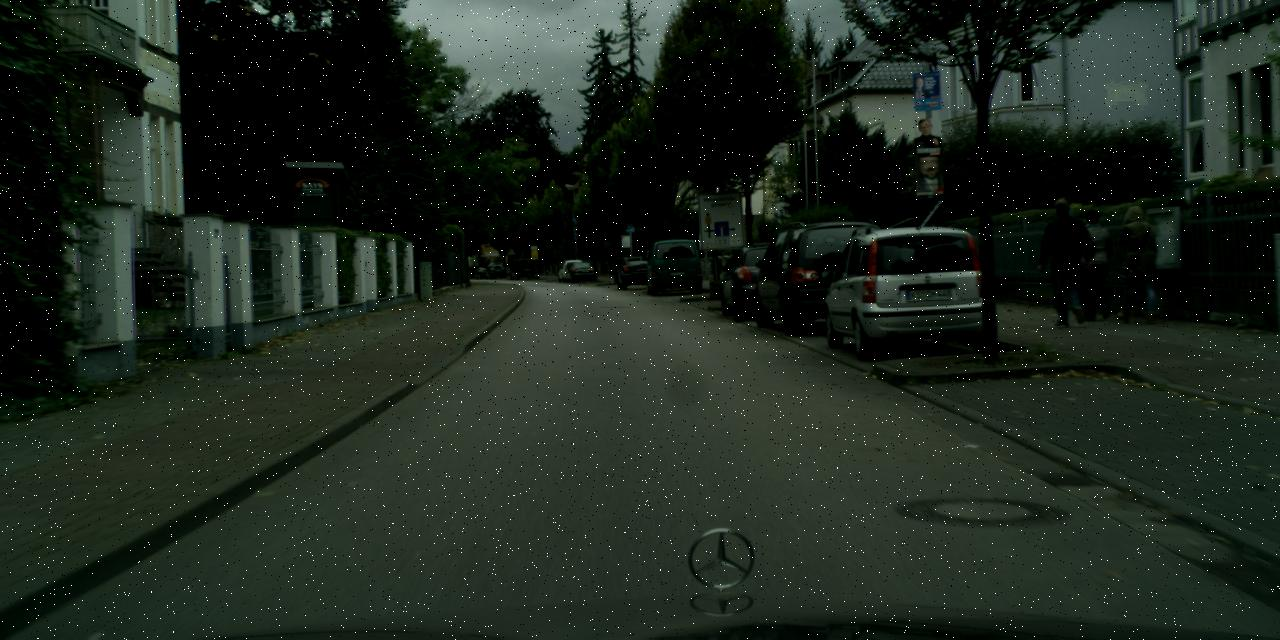ped: (1040, 196, 1092, 323), (1112, 205, 1160, 321), (1072, 208, 1118, 319)
